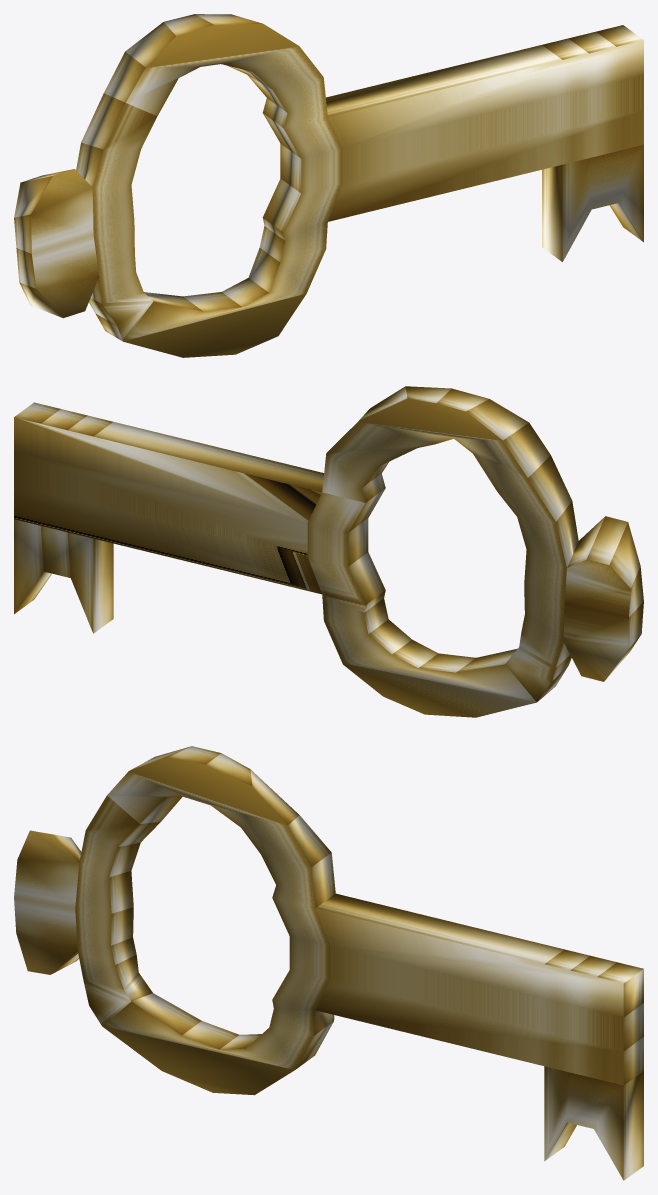
File: chave.fbx
The picture shows the model from 3 angles, top to bottom: view 1: azimuth 30°, elevation 25°; view 2: azimuth 150°, elevation 25°; view 3: azimuth 330°, elevation 25°; orthographic projection. The views are drawn at different scales.
Visible parts, largest first — view 1: Cube_008; view 2: Cube_008; view 3: Cube_008.
Boxes of the visible parts, bbox=[...] form: Cube_008: bbox=[14, 14, 643, 357]; Cube_008: bbox=[14, 386, 643, 717]; Cube_008: bbox=[14, 746, 643, 1180].
Size of the model in its own units: 4.09 by 2.06 by 0.4114.
